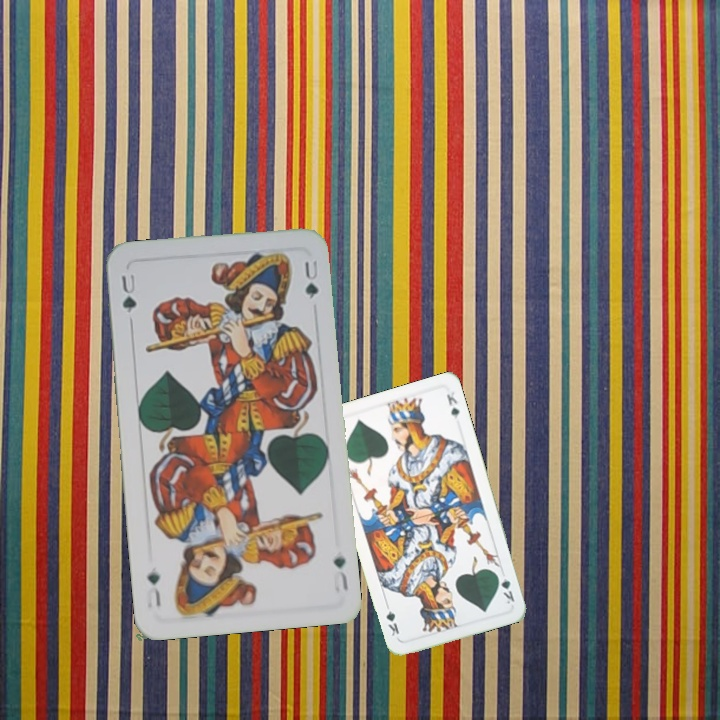GK: (493, 569, 517, 607)
GU: (117, 269, 140, 315), (329, 551, 351, 596)
